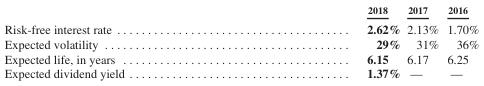table: (3, 4, 478, 80)
table column: (3, 4, 245, 80), (245, 4, 403, 80), (403, 4, 442, 80), (442, 4, 478, 80)
table column header: (3, 4, 478, 18)
table row: (3, 18, 478, 35), (3, 35, 478, 50), (3, 50, 478, 65), (3, 65, 478, 80), (3, 4, 478, 18)
